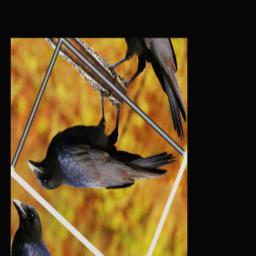Crow: (23, 55, 178, 256)
